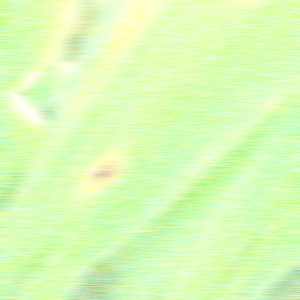Bacterial_Leaf_Blight: (82, 151, 124, 187)
